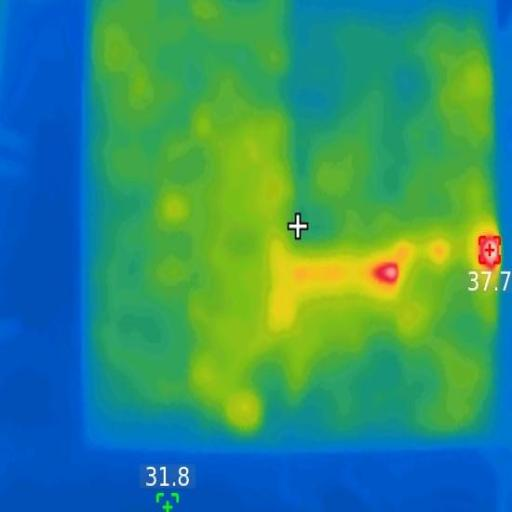hotspot: (476, 233, 504, 268), (370, 262, 405, 286)
